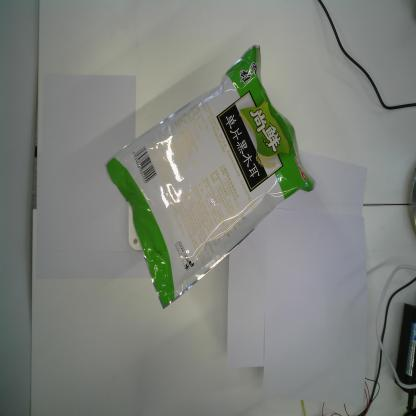Dried Food: (104, 42, 318, 312)
